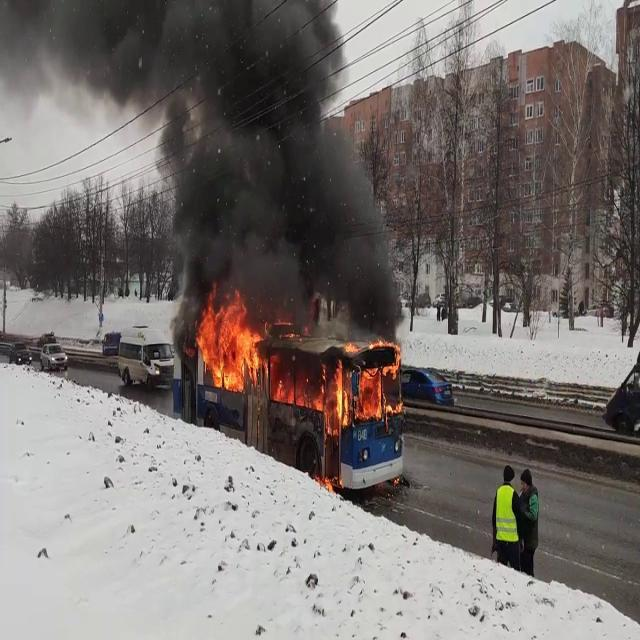Fire: (193, 292, 270, 392), (332, 336, 403, 424)
Smoke: (88, 0, 407, 328)
